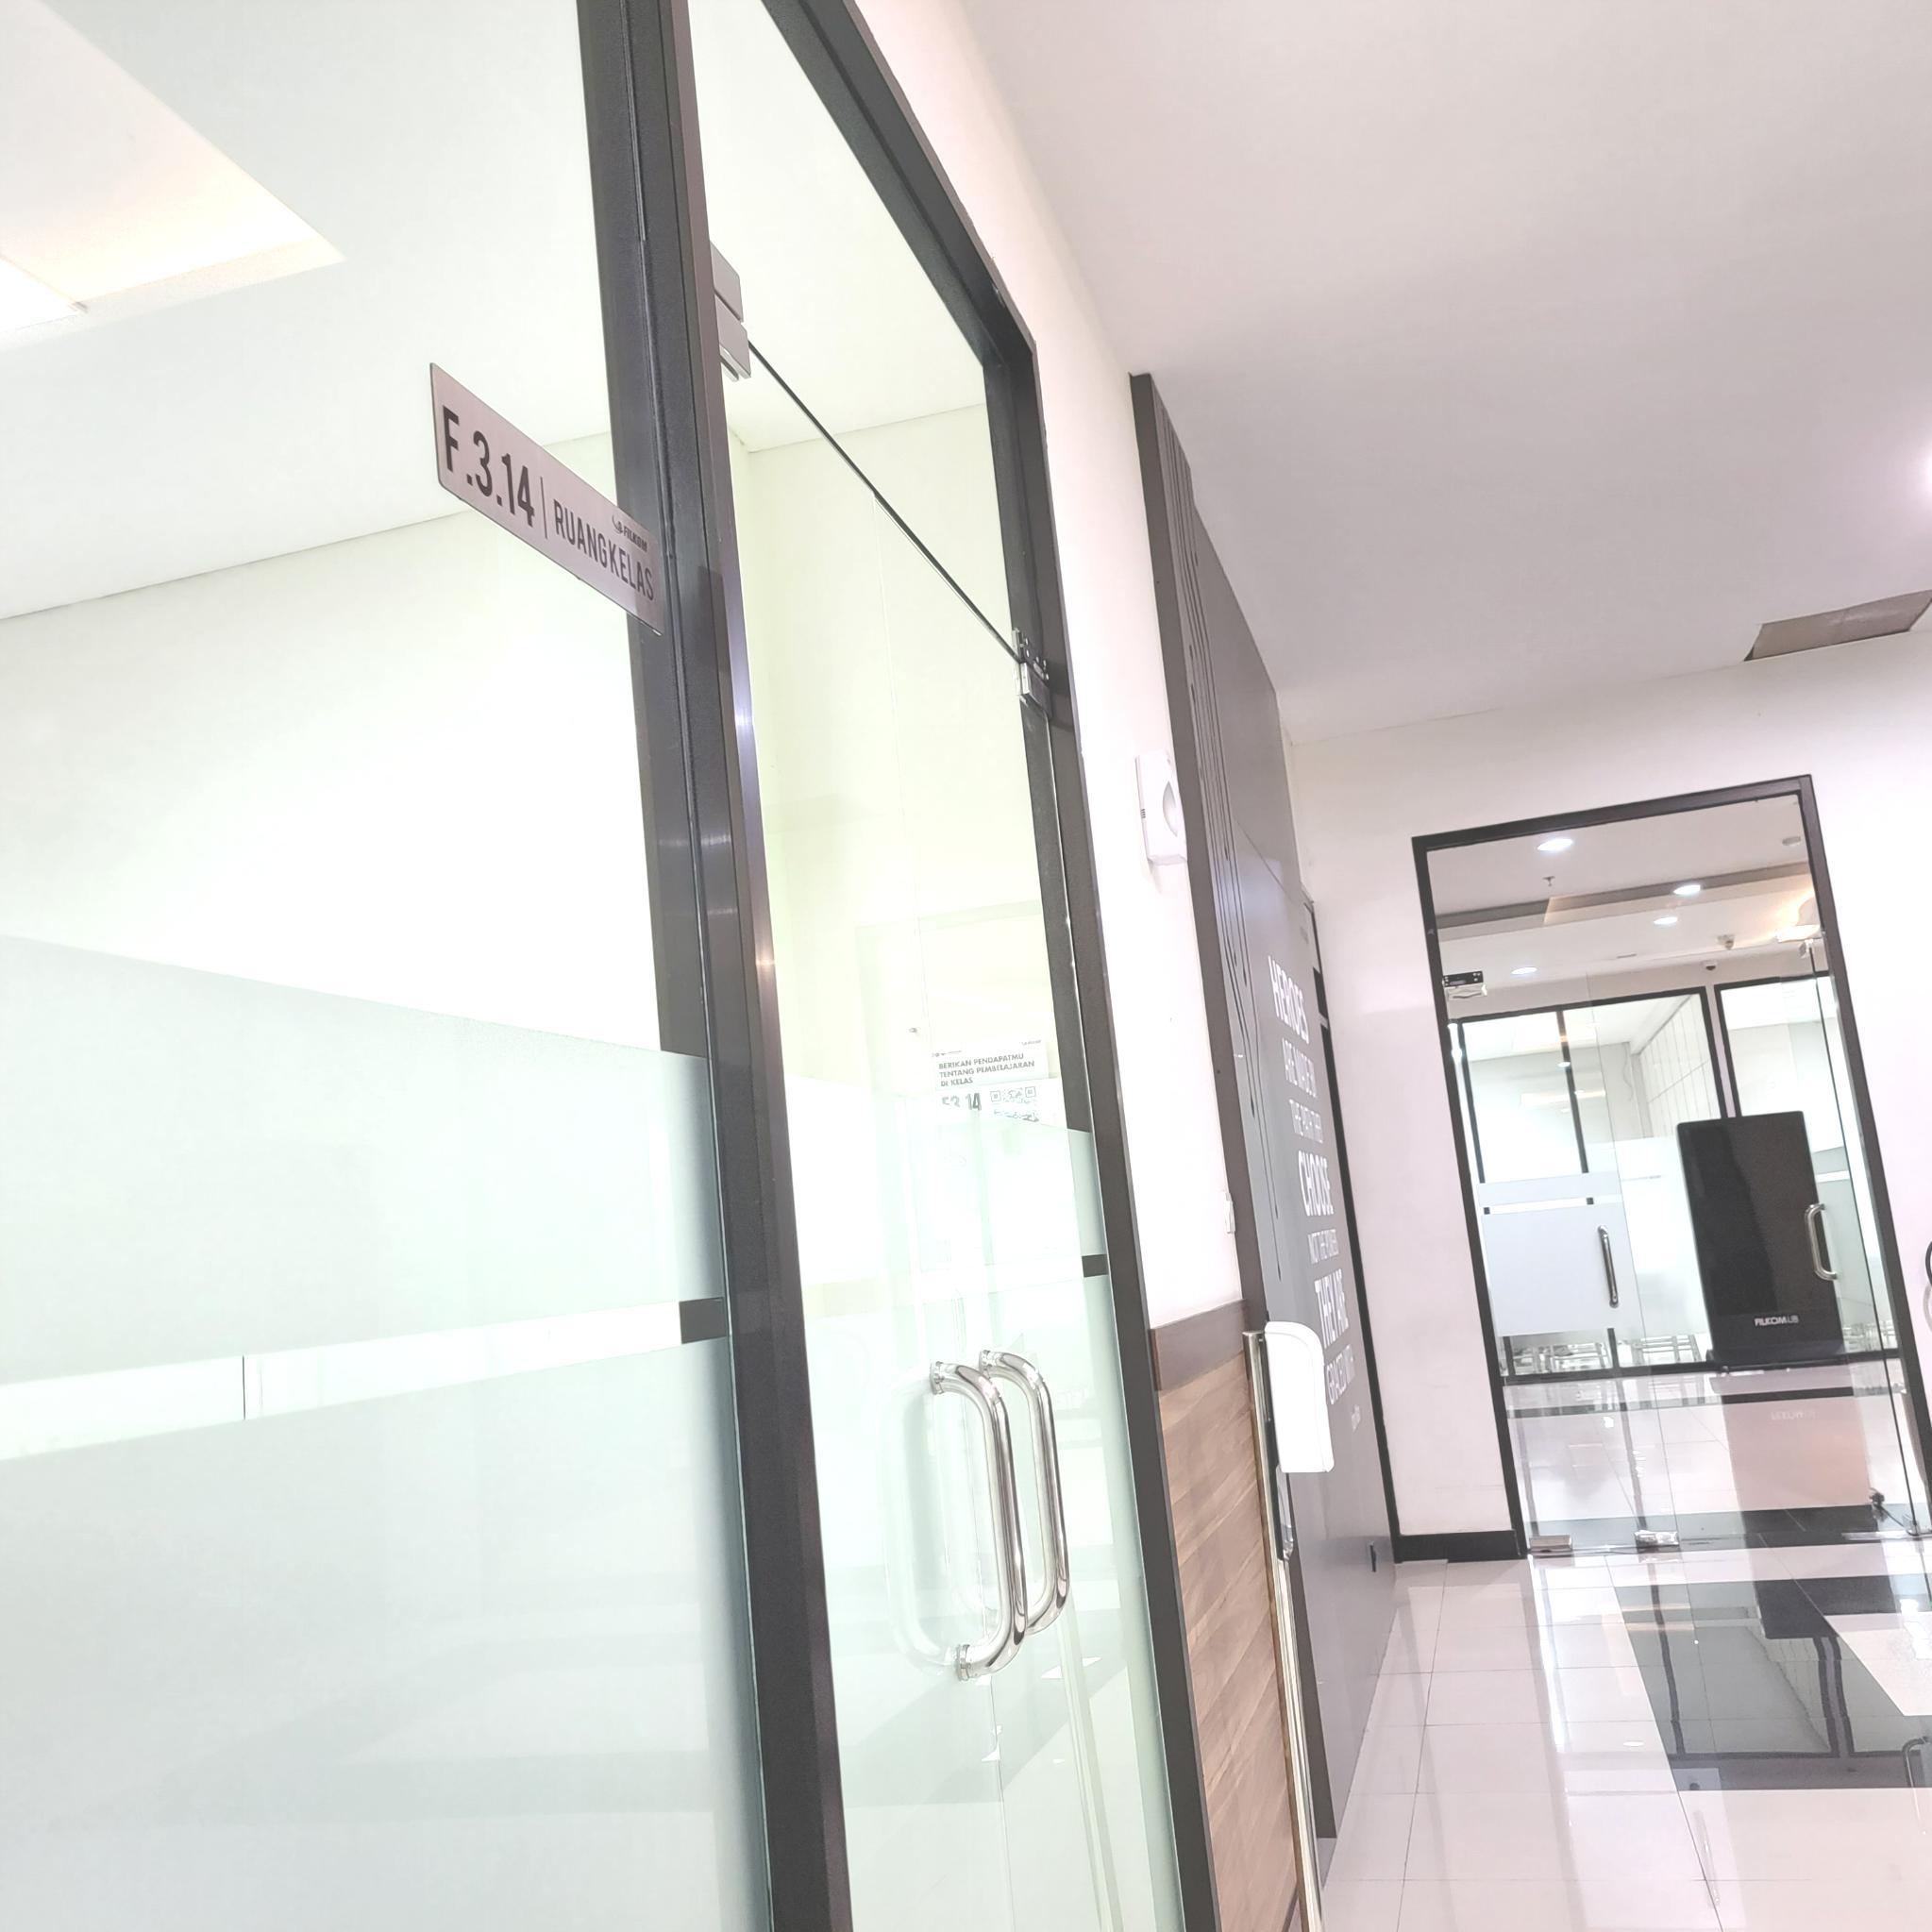plate: (430, 361, 671, 637)
